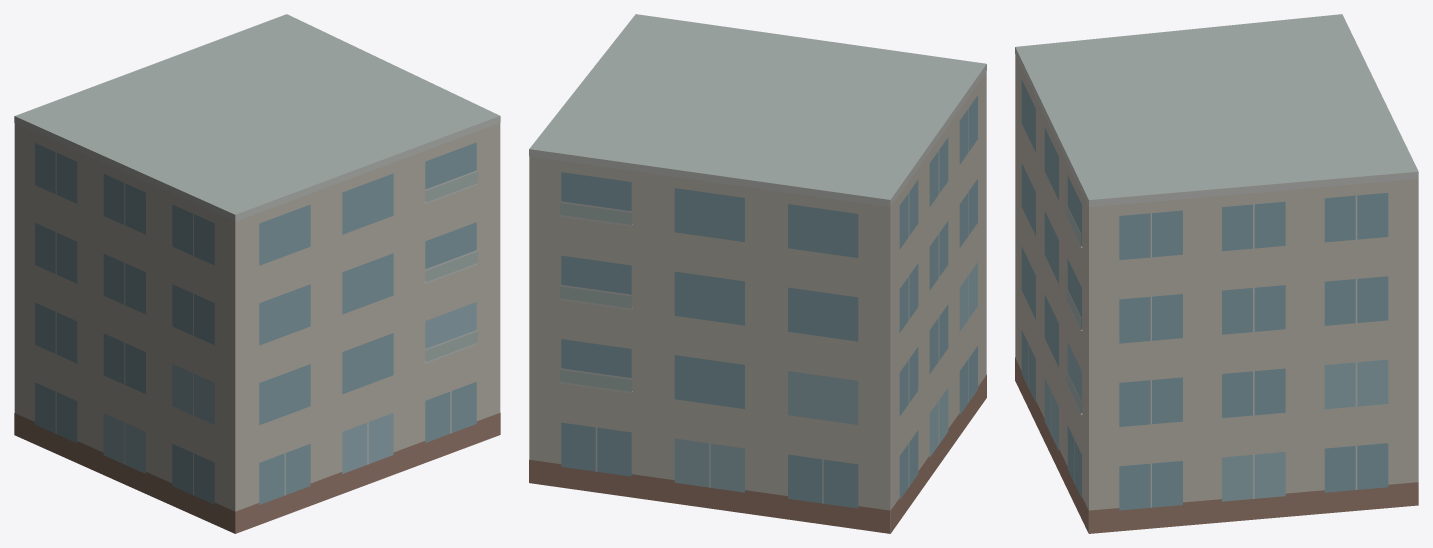
Rendered from survey-upis-32708428.glb.
3 views of the same model, side by side, from view 1: azimuth 30°, elevation 25°; view 2: azimuth 150°, elevation 25°; view 3: azimuth 270°, elevation 25° (orthographic). The views are drawn at different scales.
Visible parts, largest first — view 1: survey-upis-32708428.tmp; view 2: survey-upis-32708428.tmp; view 3: survey-upis-32708428.tmp.
Boxes of the visible parts, x1,y1,x2,y2 form: survey-upis-32708428.tmp: (14,14,500,533); survey-upis-32708428.tmp: (529,14,986,533); survey-upis-32708428.tmp: (1015,14,1418,533).
Size of the model in its own units: 13.7 by 11.45 by 12.56.
